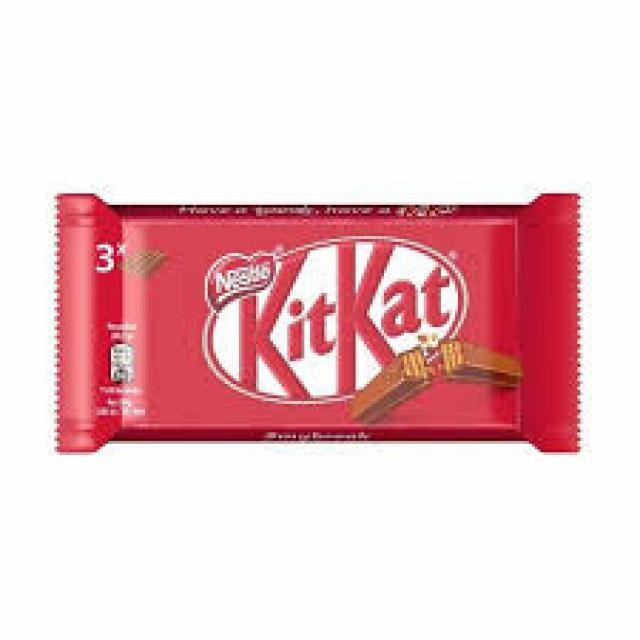kitkat_chocolate: (107, 197, 580, 485)
